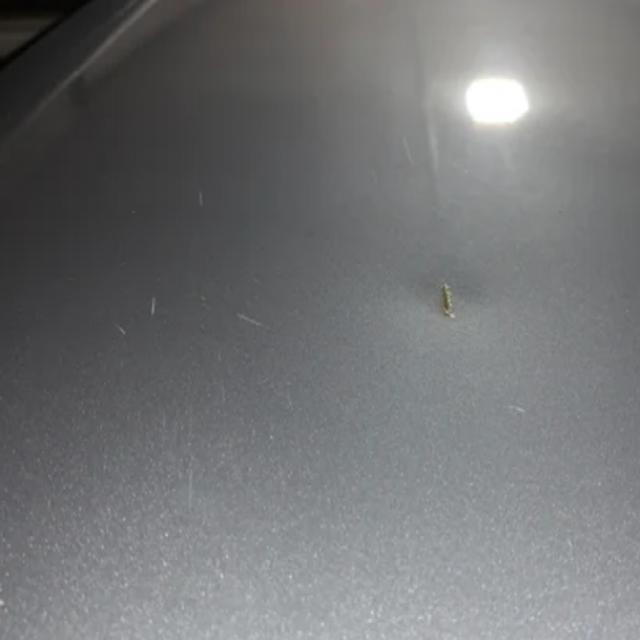dents: (391, 220, 546, 377)
